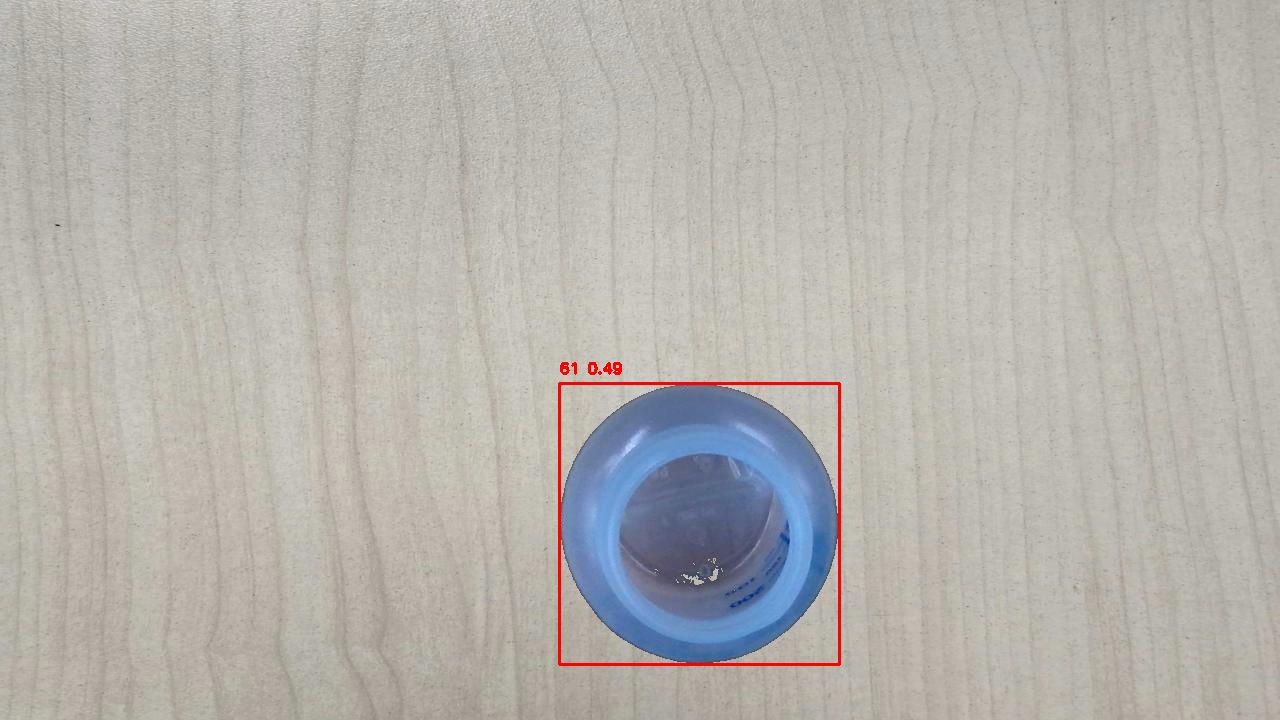cup: (559, 383, 839, 664)
